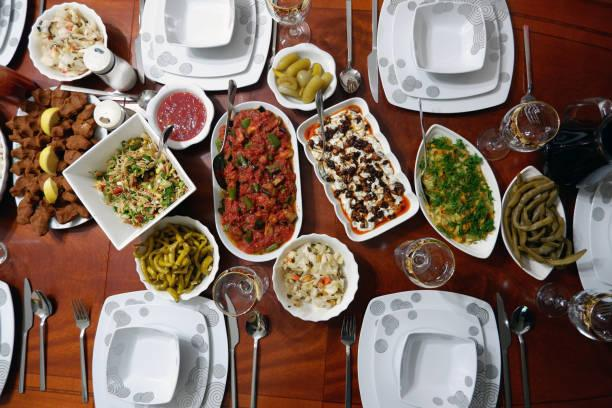Braised Crucian Carp: (69, 113, 195, 241), (292, 98, 415, 229), (217, 102, 304, 261), (8, 90, 108, 227), (413, 123, 502, 257), (267, 228, 361, 321), (500, 164, 569, 280), (131, 216, 220, 300), (26, 1, 107, 81)
